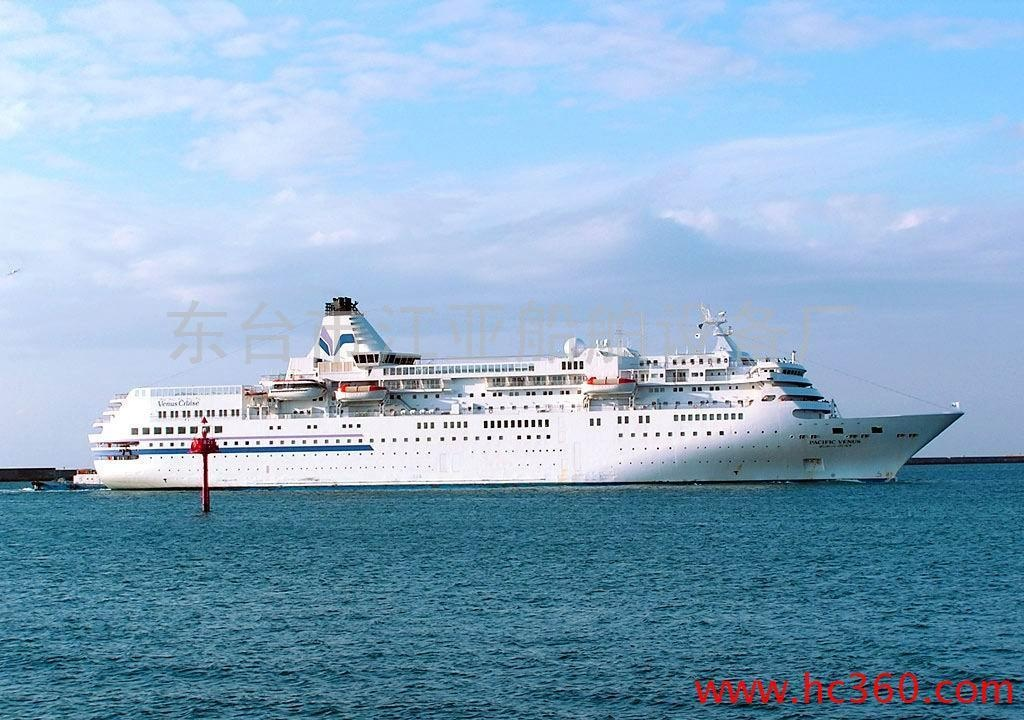youlun: (87, 311, 966, 493)
